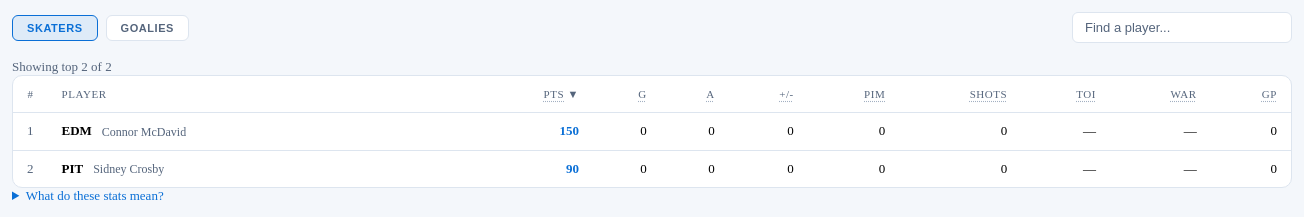
Test: LeaderboardPanel › clicking a column header sorts by it, clicking again reverses direction
Click the column heading "GP": (1251, 94) [1211,76,1291,112]
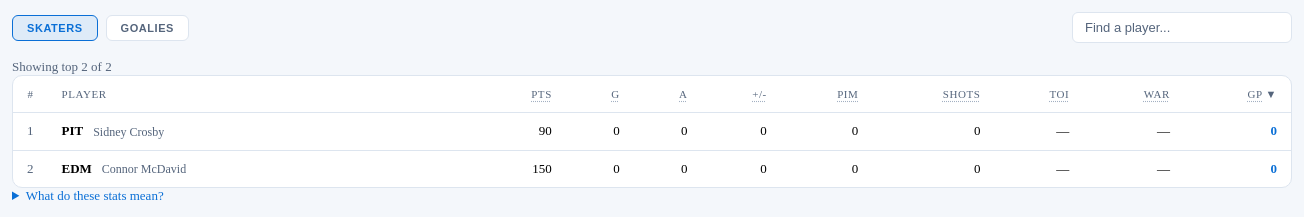
Expected: the column heading "GP ▼" is shown
Click the column heading "GP ▼": (1237, 94) [1184,76,1291,112]
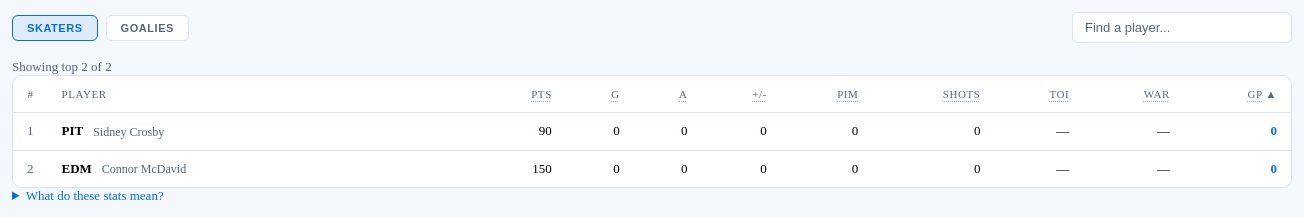
Expected: the column heading "GP ▲" is shown, [1184,76,1291,112]
